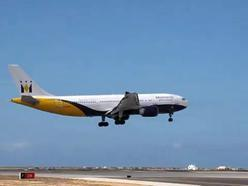aircraft: (8, 64, 190, 128)
